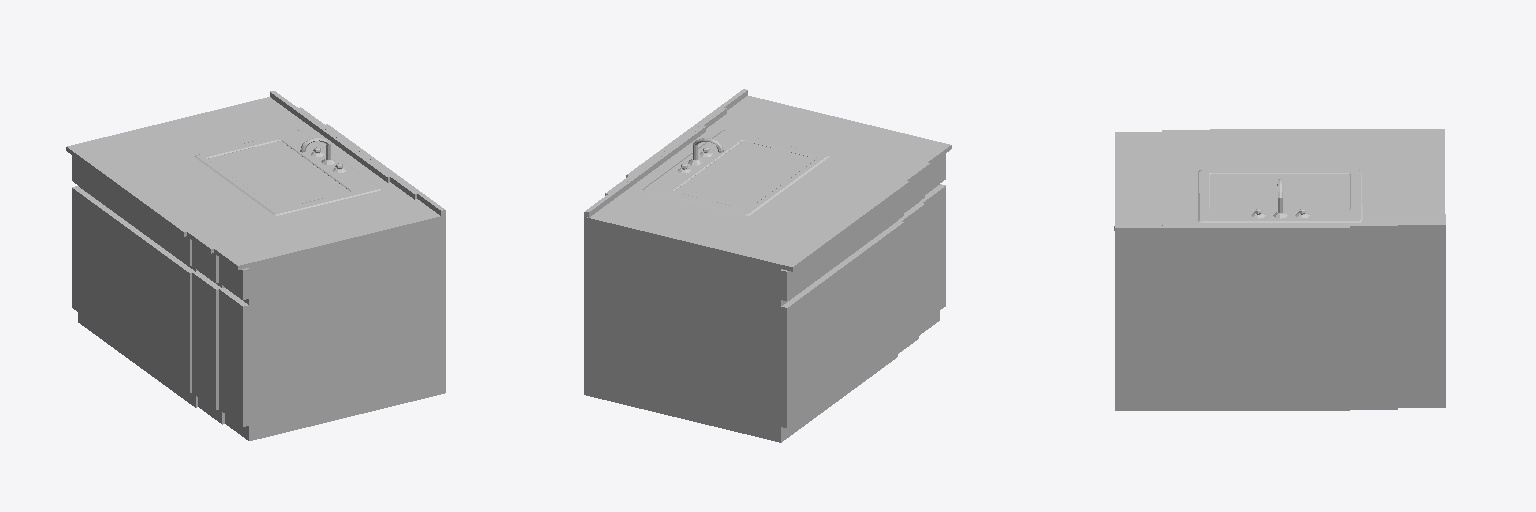
File: right_lavabo.obj
The picture shows the model from 3 angles: view 1: azimuth 30°, elevation 25°; view 2: azimuth 150°, elevation 25°; view 3: azimuth 270°, elevation 25°; orthographic projection.
Parts seen in each view (by area): view 1: Aparador_Final_Cube.007; view 2: Aparador_Final_Cube.007; view 3: Aparador_Final_Cube.007.
Part boxes in pixels (left/top/right/bottom): Aparador_Final_Cube.007: left=66, top=91, right=445, bottom=440; Aparador_Final_Cube.007: left=584, top=89, right=951, bottom=442; Aparador_Final_Cube.007: left=1114, top=129, right=1445, bottom=410.
Bounding box in the file's own units: 407 × 374 × 545.